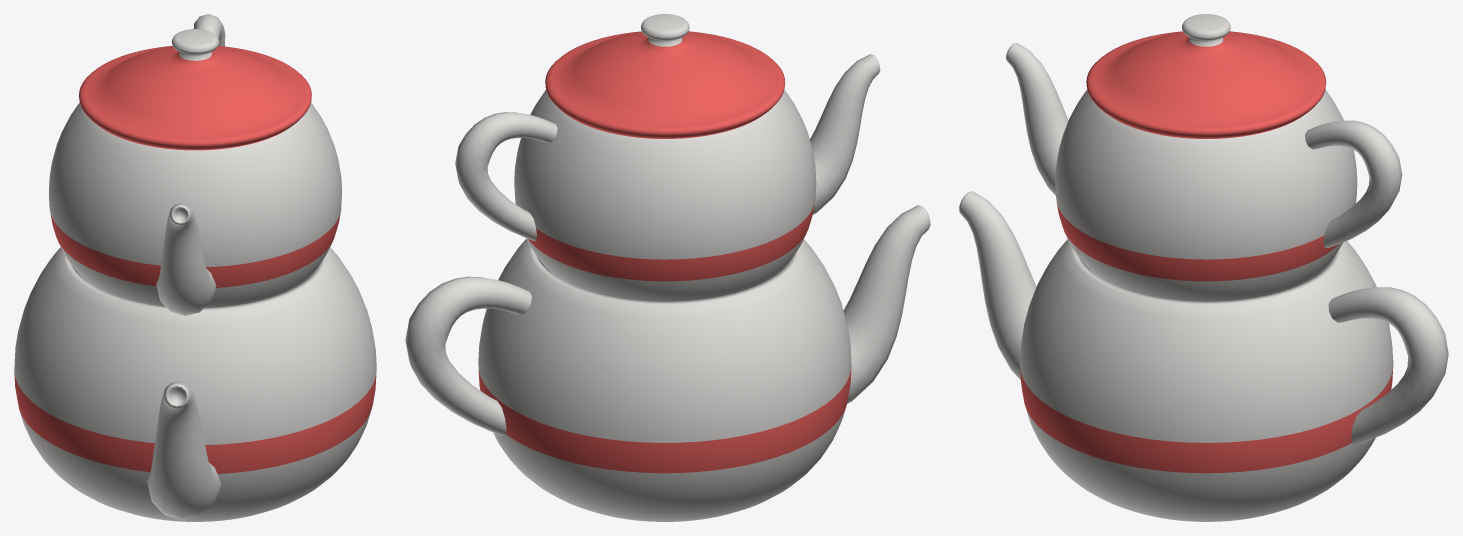
File: Caydanlık.fbx
3 renders of one model, left to right at view 1: azimuth 30°, elevation 25°; view 2: azimuth 150°, elevation 25°; view 3: azimuth 270°, elevation 25°, orthographic. The views are drawn at different scales.
Parts seen in each view (by area): view 1: BézierCircle.001, BézierCircle, BézierCircle.002; view 2: BézierCircle.001, BézierCircle, BézierCircle.002; view 3: BézierCircle.001, BézierCircle, BézierCircle.002.
Part boxes in pixels (x1,y1,x2,y2): BézierCircle.001: (14, 247, 376, 521); BézierCircle: (48, 14, 341, 315); BézierCircle.002: (79, 29, 311, 150); BézierCircle.001: (405, 205, 930, 521); BézierCircle: (455, 54, 880, 301); BézierCircle.002: (545, 14, 785, 138); BézierCircle.001: (959, 191, 1448, 521); BézierCircle: (1006, 43, 1402, 301); BézierCircle.002: (1086, 14, 1326, 138).
Bounding box in the file's own units: 44.87 × 62.32 × 58.81.
